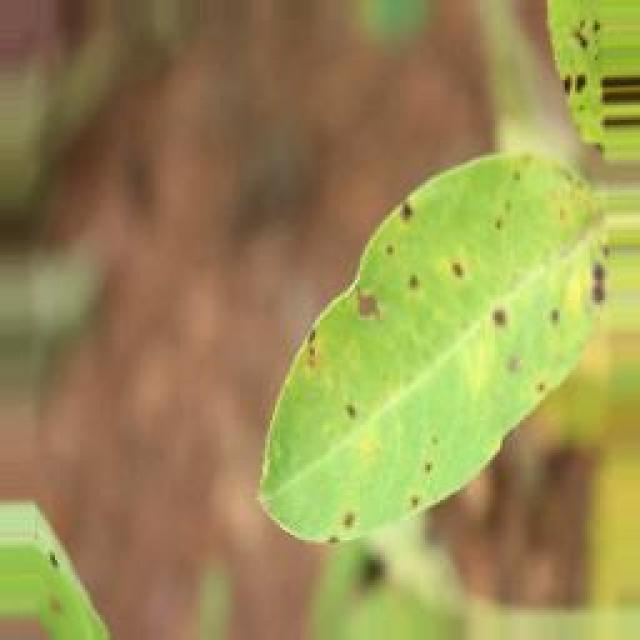Yellowish: (230, 142, 627, 521)
